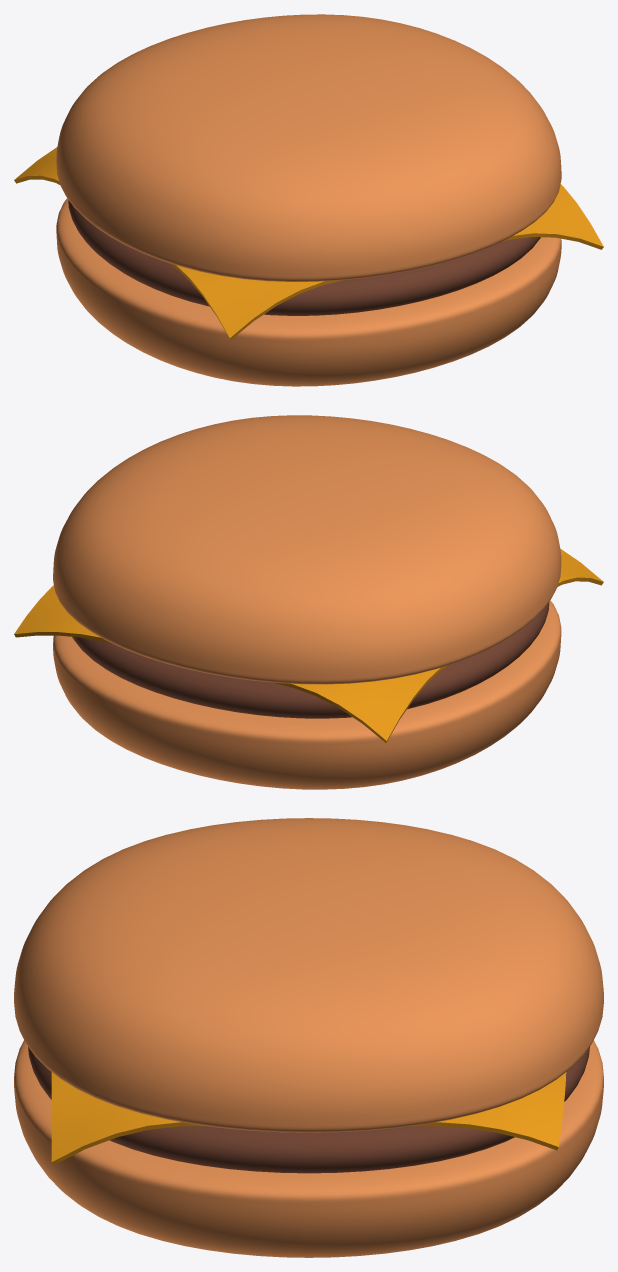
Rendered from hamburger.glb.
The picture shows the model from 3 angles, top to bottom: view 1: azimuth 30°, elevation 25°; view 2: azimuth 150°, elevation 25°; view 3: azimuth 270°, elevation 25°; orthographic projection. The views are drawn at different scales.
Parts seen in each view (by area): view 1: TopBun, BottomBun, Meat, Cheese; view 2: TopBun, BottomBun, Meat, Cheese; view 3: TopBun, BottomBun, Meat, Cheese.
Part boxes in pixels (x1,y1,x2,y2): TopBun: (56,14,561,281); BottomBun: (56,198,561,386); Meat: (68,200,540,315); Cheese: (14,147,603,340); TopBun: (53,415,561,684); BottomBun: (53,600,561,789); Meat: (72,602,549,718); Cheese: (14,549,603,742); TopBun: (14,818,603,1132); BottomBun: (14,1040,603,1257); Meat: (28,1047,589,1173); Cheese: (51,1072,566,1165).
Bounding box in the file's own units: 9.17 × 4.93 × 9.17.
